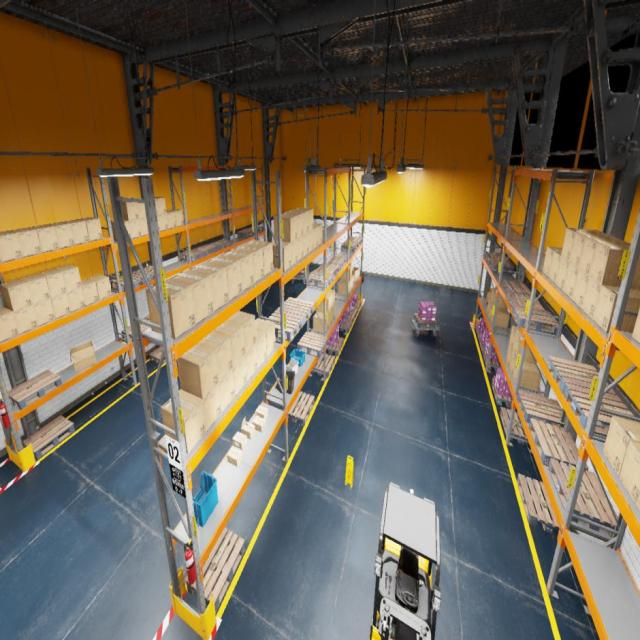box: (146, 278, 196, 338), (160, 390, 206, 454), (589, 242, 640, 290), (169, 270, 214, 324), (177, 343, 219, 399), (603, 416, 640, 476), (593, 285, 640, 332), (579, 237, 630, 276), (188, 263, 228, 312), (569, 232, 620, 269), (198, 332, 233, 382), (205, 256, 242, 300), (561, 228, 607, 262), (213, 320, 245, 367), (619, 441, 640, 507), (221, 250, 254, 292), (227, 311, 256, 354), (233, 245, 263, 283), (0, 279, 33, 311), (244, 240, 273, 276), (9, 227, 41, 257), (513, 359, 541, 393), (19, 274, 50, 304), (203, 382, 221, 432), (69, 341, 96, 373), (37, 269, 67, 297), (255, 318, 276, 357), (29, 225, 59, 252), (582, 277, 601, 319), (54, 264, 82, 292), (512, 332, 536, 364), (47, 222, 75, 248), (13, 305, 38, 334), (219, 368, 235, 412), (274, 214, 298, 242), (0, 230, 22, 260), (62, 220, 89, 244), (0, 308, 19, 342), (271, 240, 291, 272), (573, 269, 589, 308), (88, 274, 111, 300), (281, 212, 303, 239), (33, 299, 55, 326), (543, 246, 562, 277), (78, 217, 102, 241), (563, 262, 578, 300), (233, 356, 247, 396), (288, 209, 308, 236), (51, 293, 72, 318), (67, 286, 86, 312), (81, 279, 99, 306), (294, 208, 313, 232), (245, 343, 257, 381), (490, 307, 510, 329), (256, 329, 267, 368), (549, 251, 562, 283), (111, 220, 131, 240), (556, 257, 568, 290), (121, 201, 139, 220), (313, 312, 328, 334), (509, 325, 522, 350), (241, 416, 255, 439), (491, 288, 507, 308), (316, 294, 332, 313), (167, 210, 184, 227), (632, 307, 640, 343), (227, 447, 242, 466), (489, 303, 504, 320), (232, 432, 247, 449), (142, 199, 158, 214), (129, 220, 142, 238), (252, 416, 266, 432), (290, 240, 298, 266), (313, 223, 322, 246), (338, 279, 350, 296), (155, 197, 166, 214), (158, 214, 168, 231), (340, 266, 352, 280), (167, 211, 176, 229), (510, 352, 516, 378), (256, 406, 268, 419), (342, 278, 352, 293), (506, 344, 512, 368), (327, 290, 335, 308), (140, 218, 148, 236), (303, 232, 308, 258), (298, 236, 303, 262), (138, 203, 146, 218), (313, 226, 318, 249), (309, 230, 314, 253), (352, 267, 359, 282), (486, 288, 492, 305), (487, 298, 491, 316), (157, 215, 160, 231), (332, 305, 334, 323), (329, 310, 331, 328), (352, 275, 354, 289), (638, 502, 640, 511), (0, 253, 2, 262)
forklift: (369, 482, 441, 639)
pallets: (548, 458, 618, 537), (187, 528, 245, 612), (563, 382, 640, 436), (516, 474, 570, 534), (529, 418, 588, 472), (547, 356, 617, 395), (22, 416, 75, 460), (8, 370, 62, 410), (517, 390, 564, 426), (512, 304, 558, 334), (266, 310, 303, 342), (500, 406, 528, 444), (278, 297, 314, 324), (288, 391, 315, 426), (298, 331, 328, 357), (506, 292, 544, 310), (122, 318, 150, 342), (110, 273, 146, 291), (492, 378, 512, 408), (311, 353, 335, 377), (504, 280, 532, 300), (306, 270, 334, 289), (132, 266, 165, 281), (488, 258, 514, 274), (483, 349, 501, 371), (325, 337, 344, 356), (315, 263, 340, 277), (180, 248, 205, 262), (149, 346, 166, 365), (414, 314, 437, 328), (484, 251, 508, 263), (328, 255, 346, 270), (194, 244, 218, 255), (340, 240, 359, 252), (211, 239, 231, 249), (338, 318, 352, 332), (346, 236, 363, 247), (237, 229, 254, 237), (246, 226, 264, 233), (350, 308, 358, 322), (354, 300, 362, 313), (476, 326, 483, 340), (292, 270, 306, 277), (479, 336, 484, 354), (144, 314, 150, 319)
